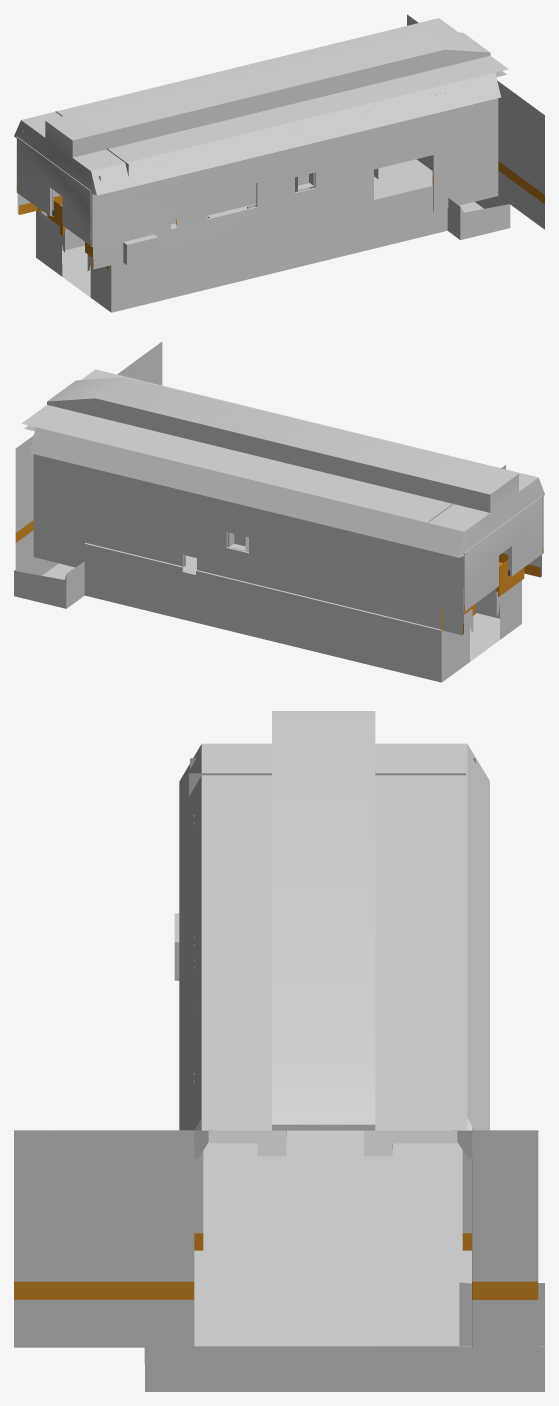
Rendered from SM_H_Building_Tide_Dock_06_ATLAS.fbx.
The picture shows the model from 3 angles, top to bottom: view 1: azimuth 30°, elevation 25°; view 2: azimuth 150°, elevation 25°; view 3: azimuth 270°, elevation 25°; orthographic projection. The views are drawn at different scales.
Visible parts, largest first — view 1: SM_H_Building_Tide_Dock_06_ATLAS; view 2: SM_H_Building_Tide_Dock_06_ATLAS; view 3: SM_H_Building_Tide_Dock_06_ATLAS.
Boxes of the visible parts, x1,y1,x2,y2 form: SM_H_Building_Tide_Dock_06_ATLAS: (14, 14, 544, 312); SM_H_Building_Tide_Dock_06_ATLAS: (14, 341, 544, 682); SM_H_Building_Tide_Dock_06_ATLAS: (14, 711, 544, 1391).
Size of the model in its own units: 11602 by 6690 by 4262.
